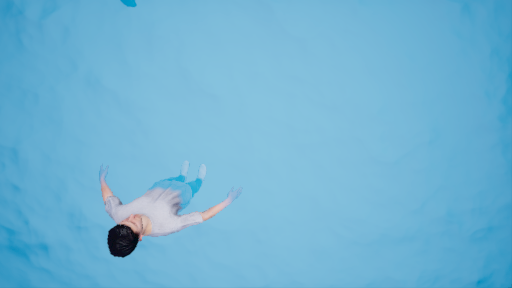person: (82, 155, 251, 258)
